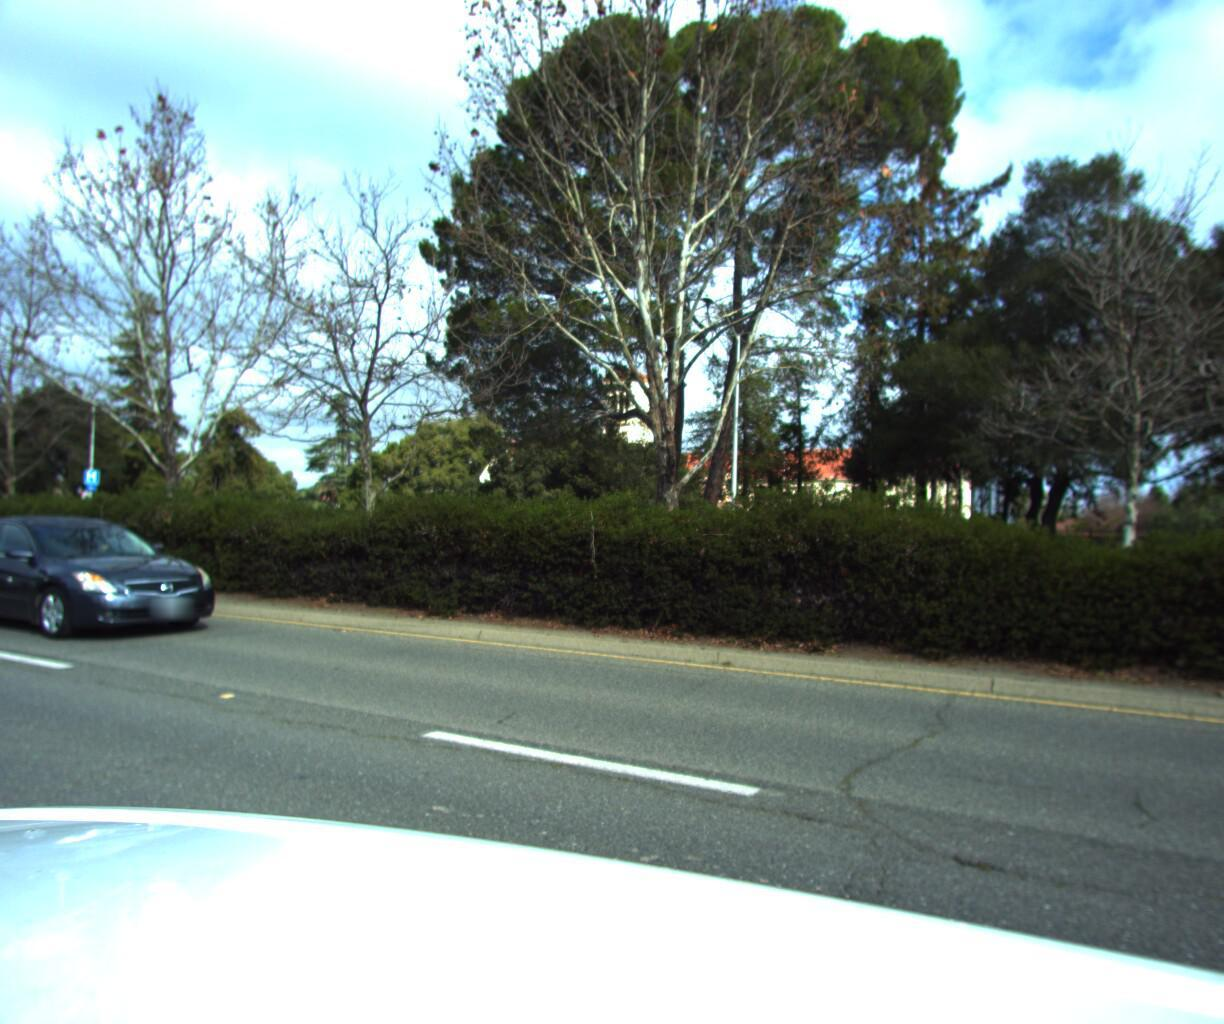car: (0, 507, 236, 648)
